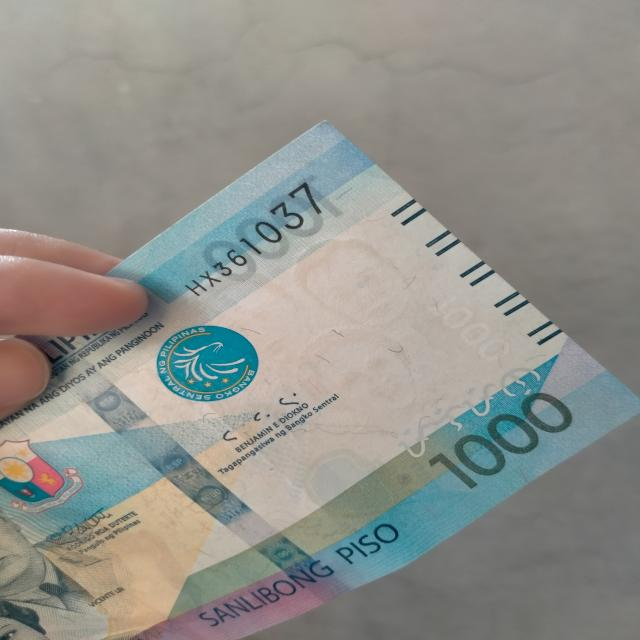security_thread: (26, 324, 360, 607)
see_through_mark: (384, 355, 556, 457)
value_watermark: (424, 278, 508, 367)
watermark: (195, 240, 438, 427)
